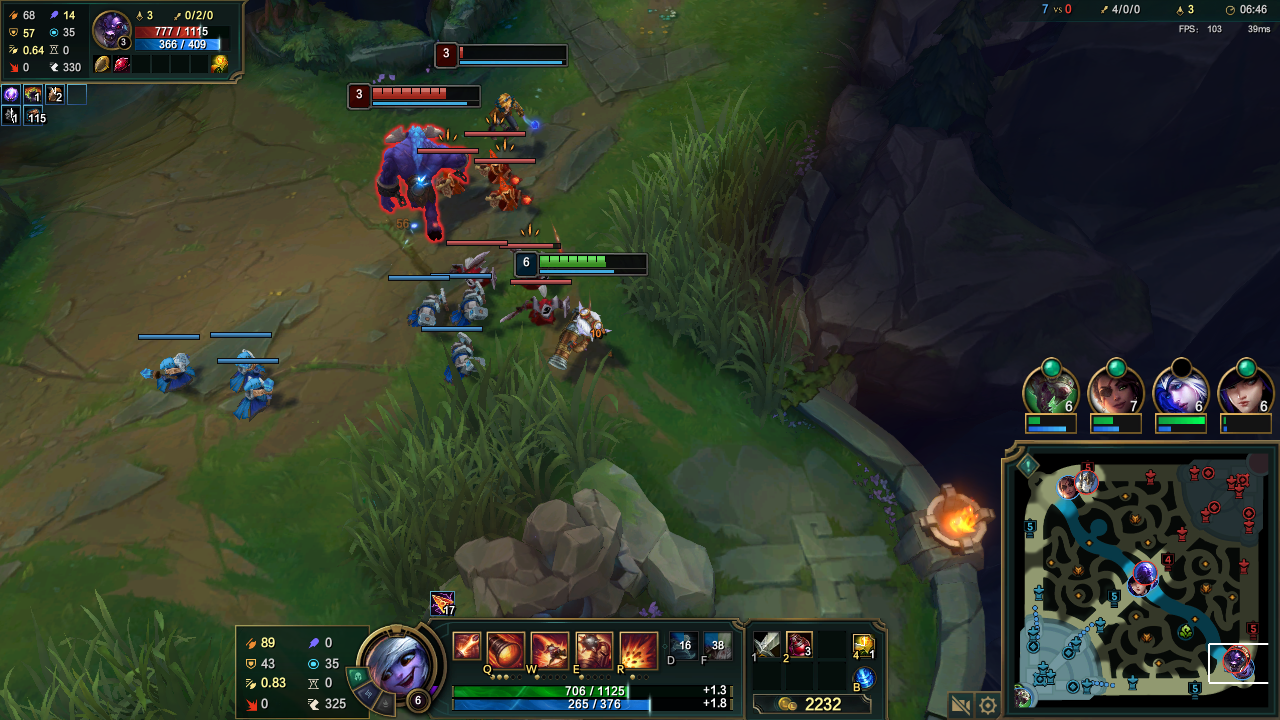DFXB: (509, 290, 571, 338), (477, 175, 534, 226), (450, 249, 503, 294), (427, 166, 473, 198), (478, 149, 518, 183)
DFYX: (453, 44, 565, 64), (369, 82, 431, 104)
WFXB: (222, 376, 297, 435), (142, 350, 209, 401), (438, 331, 489, 387), (403, 282, 457, 331), (220, 348, 272, 391), (454, 283, 494, 328)
